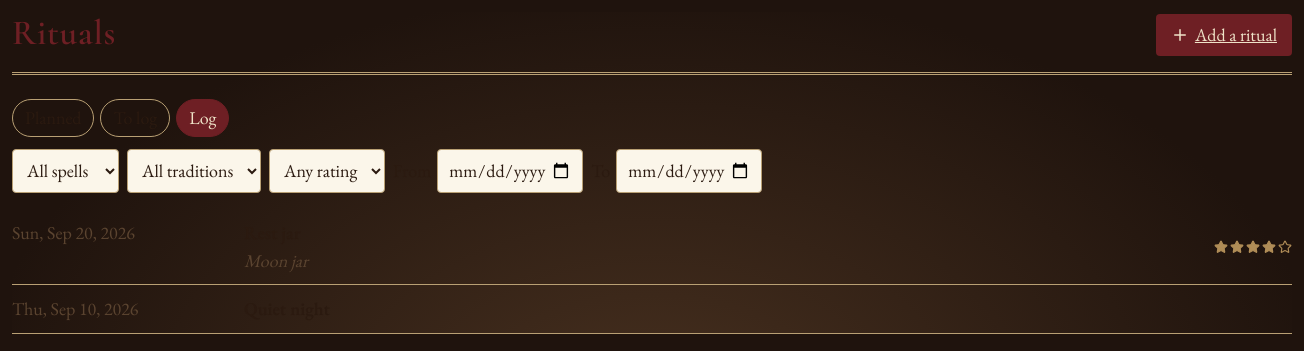
Test: Rituals list › says no logged rituals match when a filter leaves the Log empty
This screenshot has width=1304, height=351.
Select "5 of 5" in the dropdown named "Rating at least": [327, 171] box [269,149,385,193]
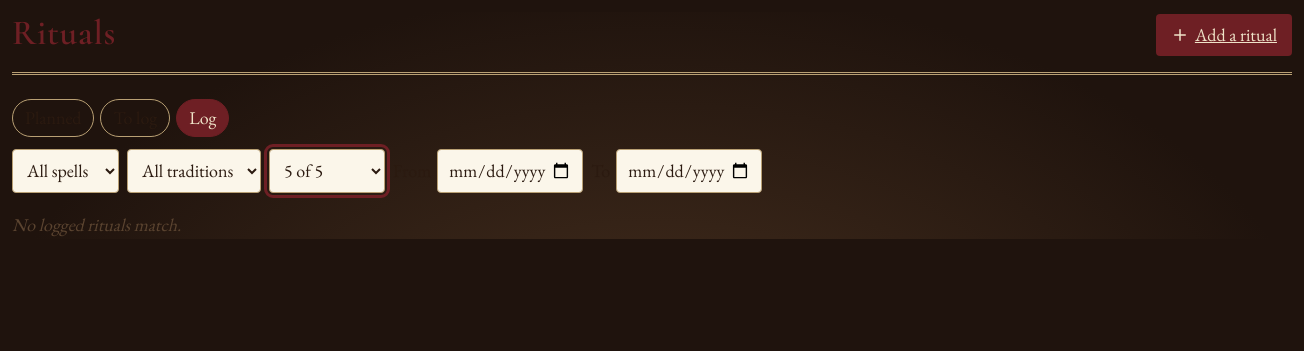
Result: the text "No logged rituals match." is shown at [12,213,181,236]
